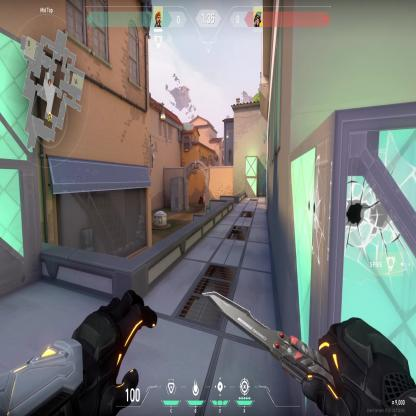enemy: (202, 192, 205, 211)
